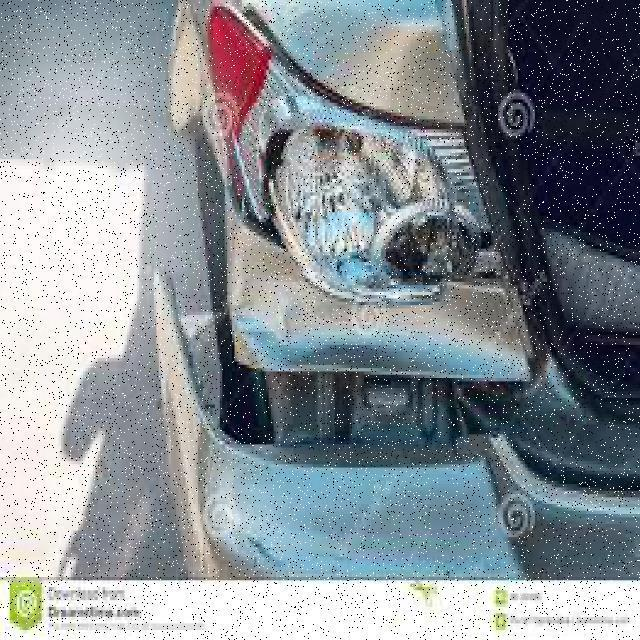car damage: (164, 331, 638, 597), (225, 70, 477, 296)
